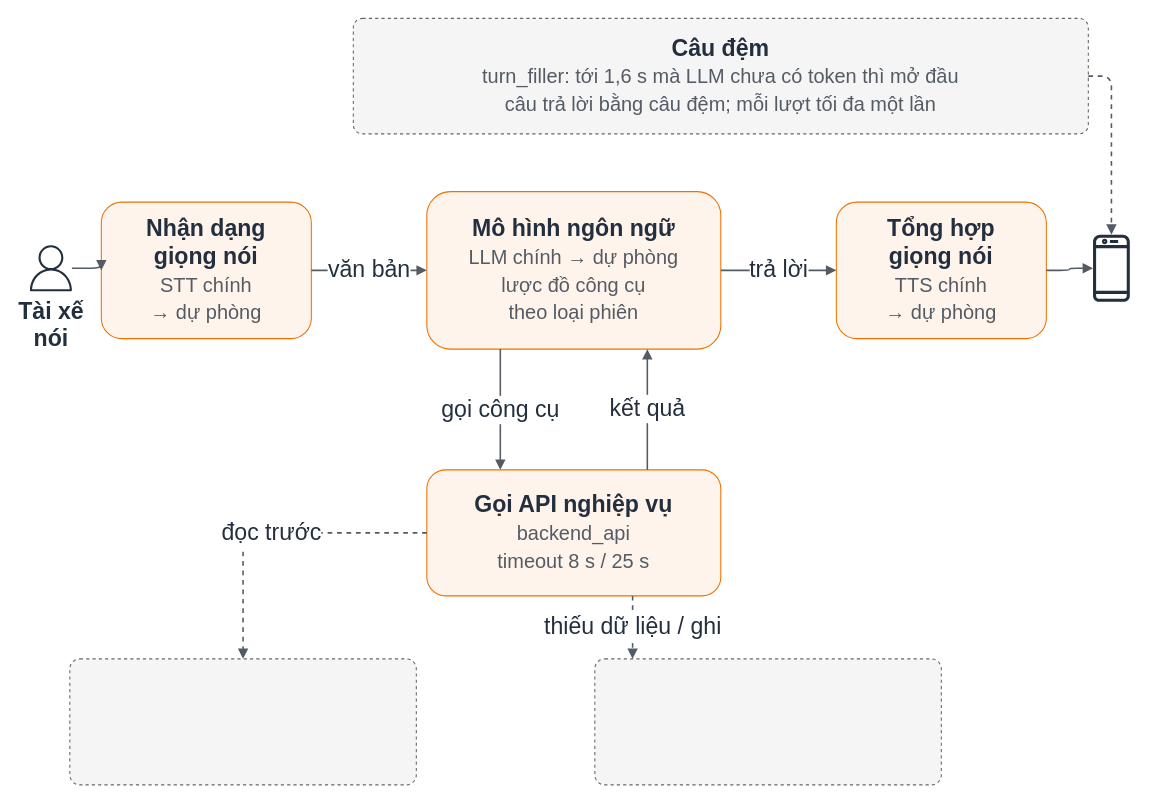
Some shapes in this 1161 by 803 pixel diagram are drawn without their labels. Here are the shapes that lost their labels. From the top down, the box of each, then its label:
(1088, 234, 1134, 301): Phát trả lời
(69, 658, 416, 785): Trạng thái phiên hội thoại context_store tải trước khi mở phiên
(594, 658, 941, 785): Dịch vụ Chuyến đi và Điều phối HTTPS qua API Gateway
